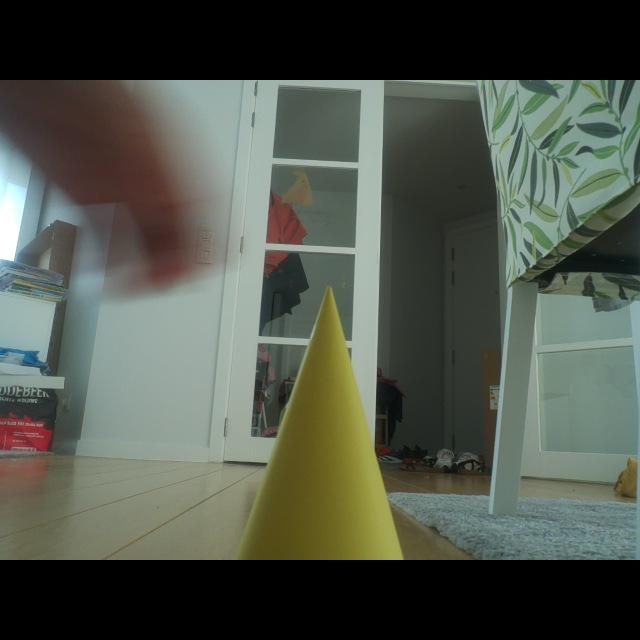bolya: (238, 288, 402, 559)
